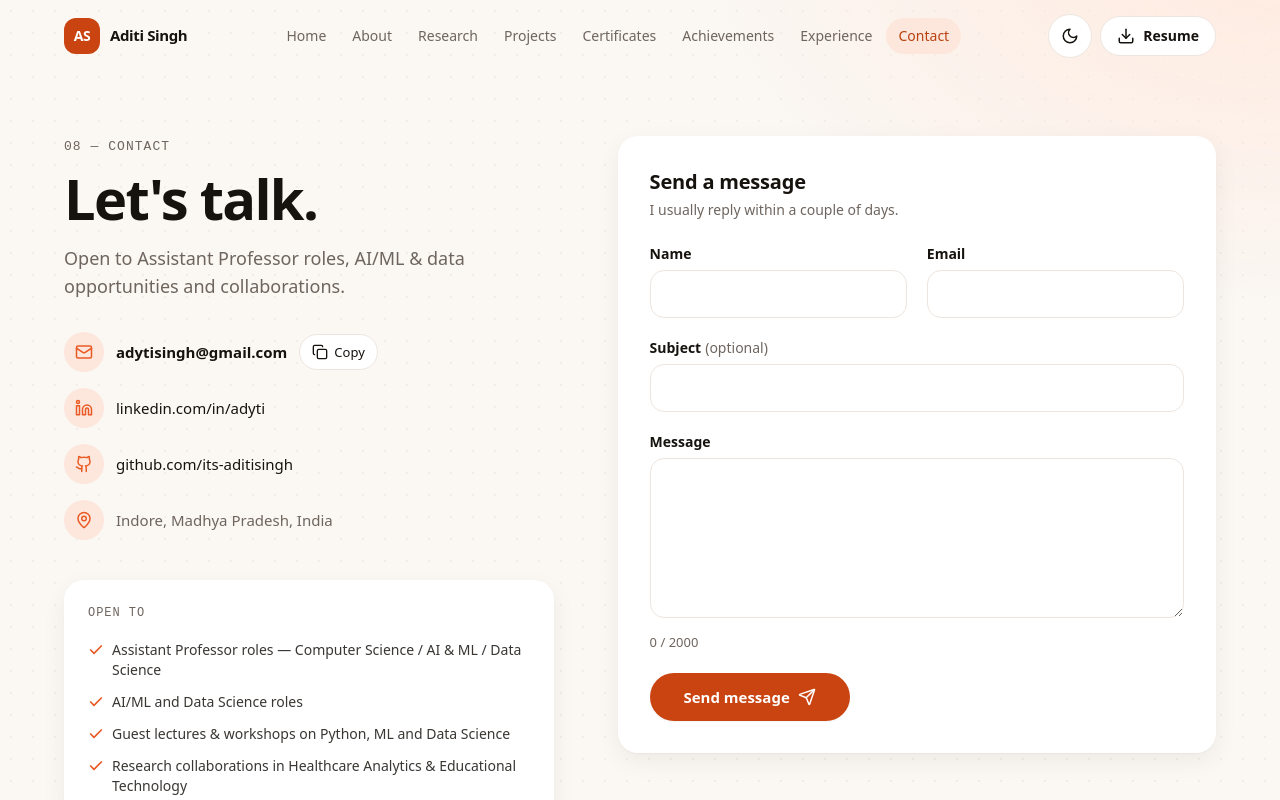
Contact form (docs/03-features/07-contact.md) › blocks an invalid submit, shows inline errors and focuses the first invalid field
This screenshot has width=1280, height=800.
In the field labelled "Email": (1055, 294) [927, 270, 1184, 318], type "not-an-email"
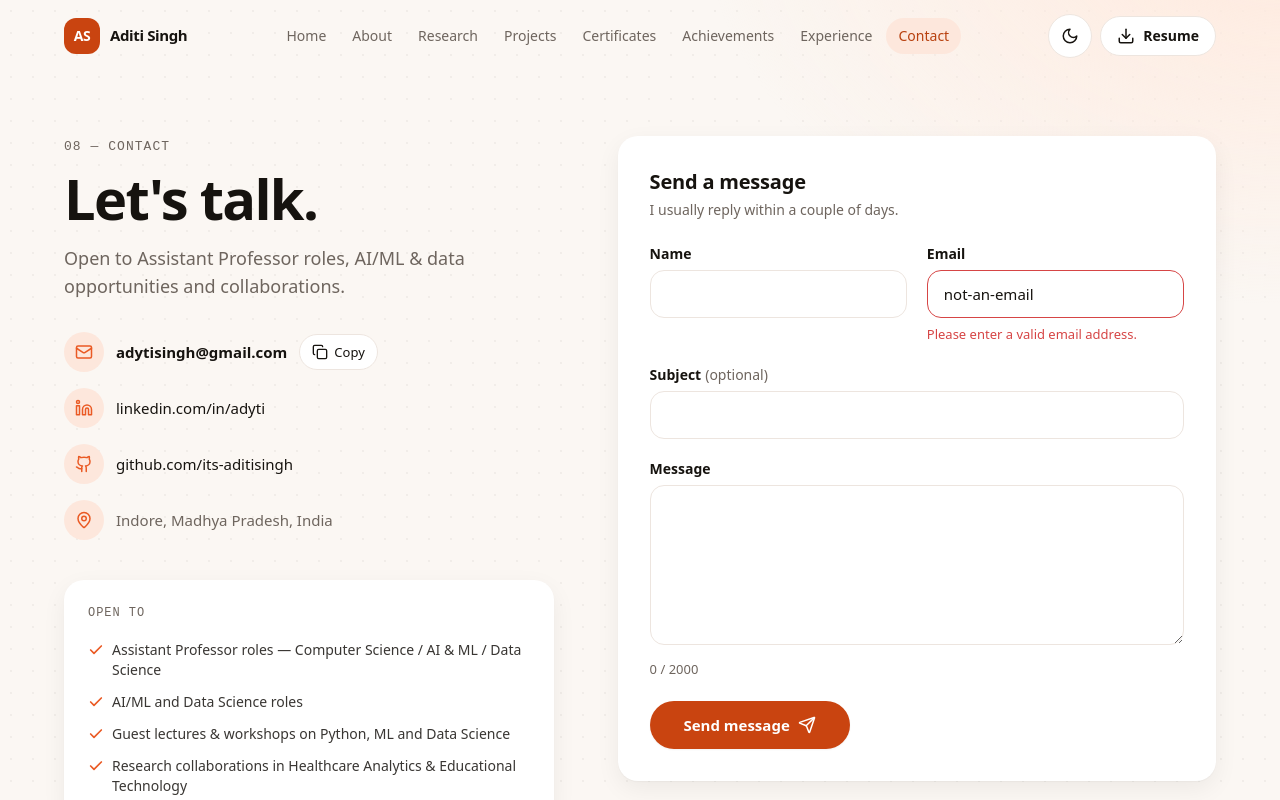
Click the button "Send message": (750, 725) [650, 701, 850, 749]
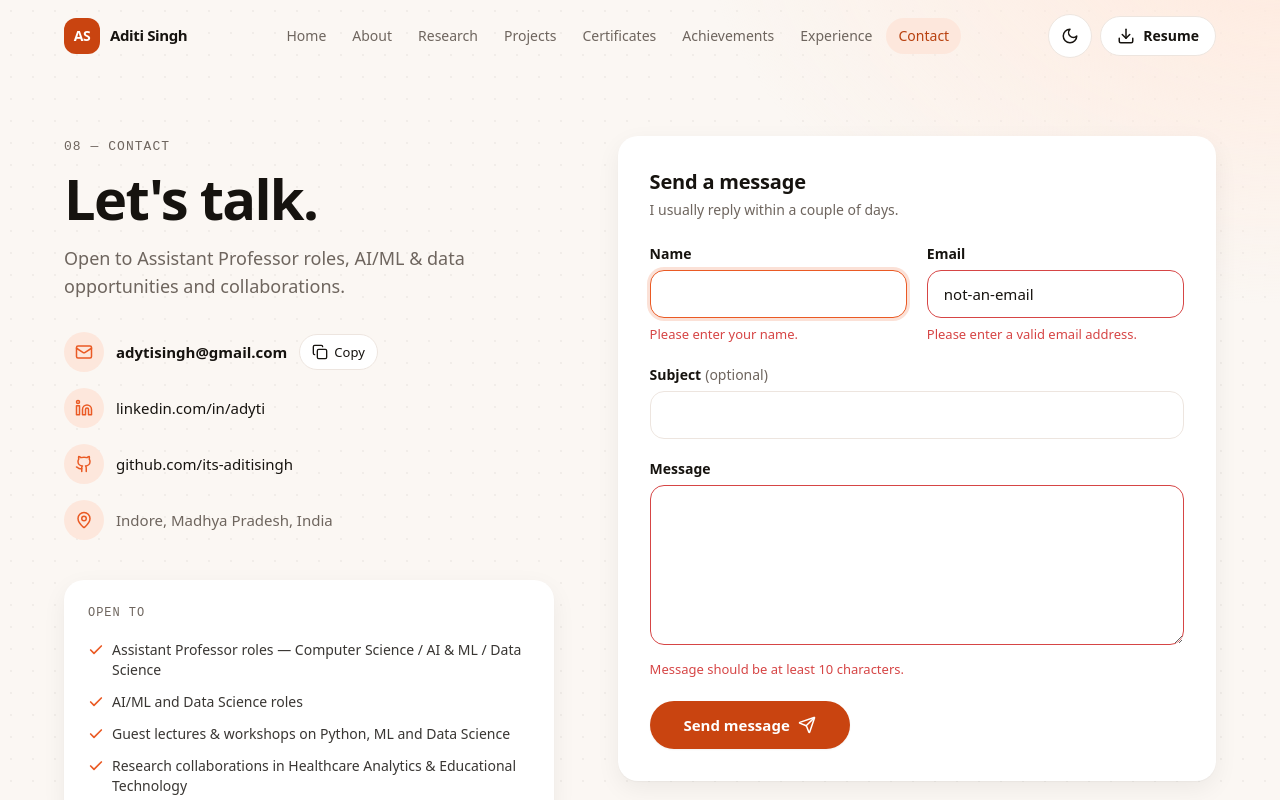
Expected: the text "Message should be at least 10 characters." is shown, [650, 660, 904, 678]
